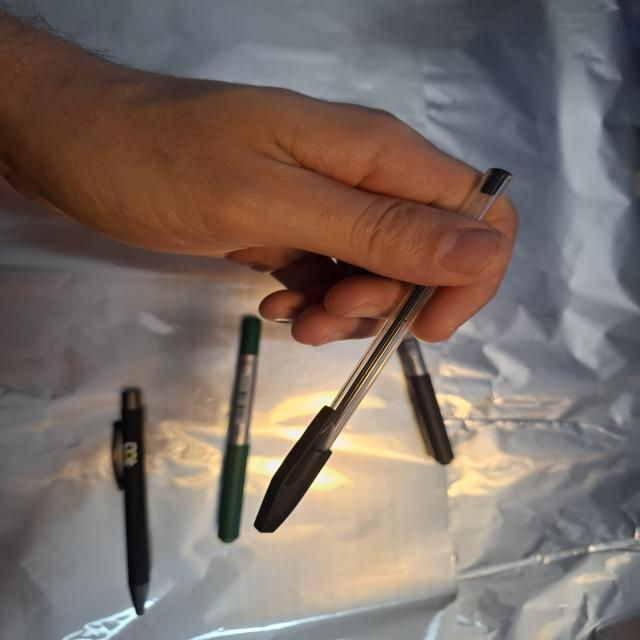glove_off: (8, 25, 526, 350)
